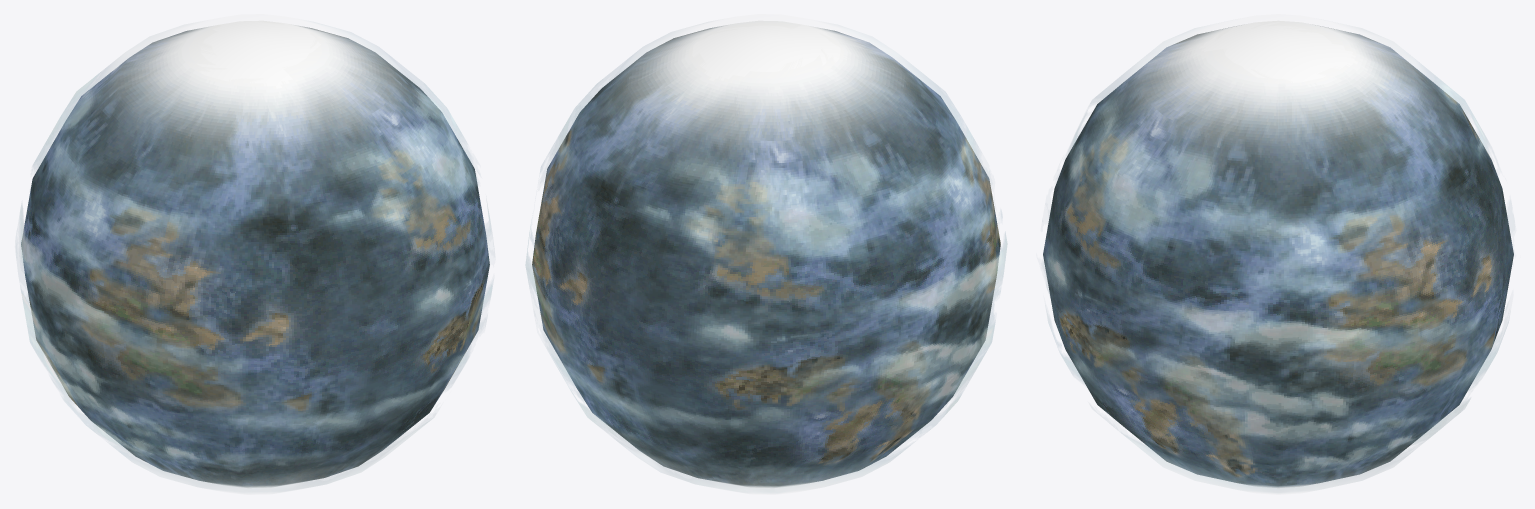
Rendered from earth_one_cmp.gltf.
The picture shows the model from 3 angles, left to right: view 1: azimuth 30°, elevation 25°; view 2: azimuth 150°, elevation 25°; view 3: azimuth 270°, elevation 25°; orthographic projection.
Parts seen in each view (by area): view 1: Root, clouds; view 2: Root, clouds; view 3: Root, clouds.
Boxes of the visible parts, x1,y1,x2,y2 form: Root: [21, 20, 489, 488]; clouds: [16, 14, 492, 494]; Root: [532, 20, 1000, 488]; clouds: [525, 14, 1007, 494]; Root: [1043, 20, 1513, 488]; clouds: [1042, 14, 1509, 494].
Size of the model in its own units: 44.28 by 44.28 by 44.28.
Materials: 2 (2 with a texture image).
